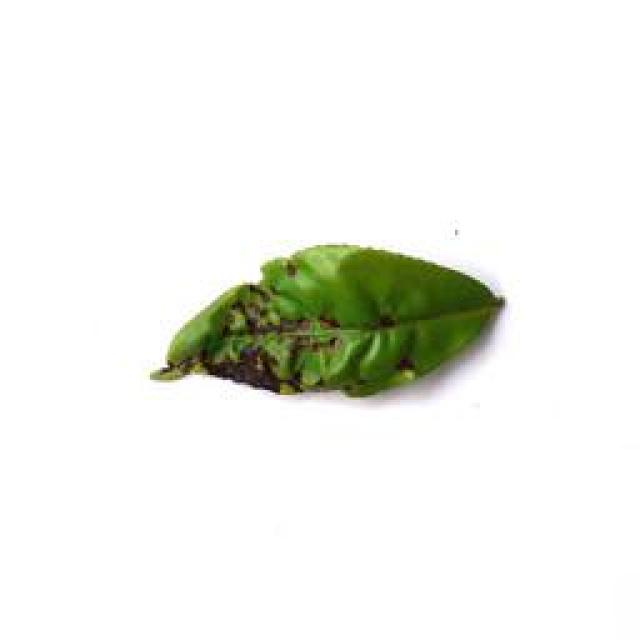Helopeltis: (141, 247, 520, 407)
